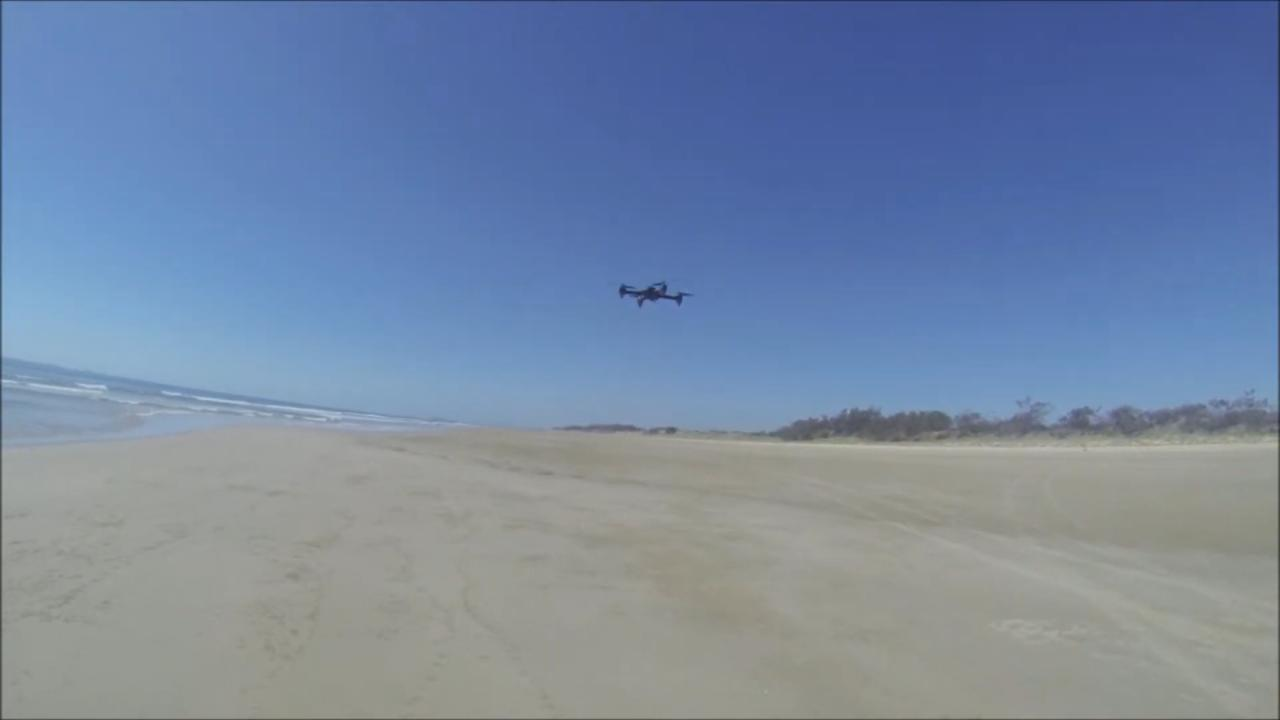Drone: (601, 269, 706, 320)
